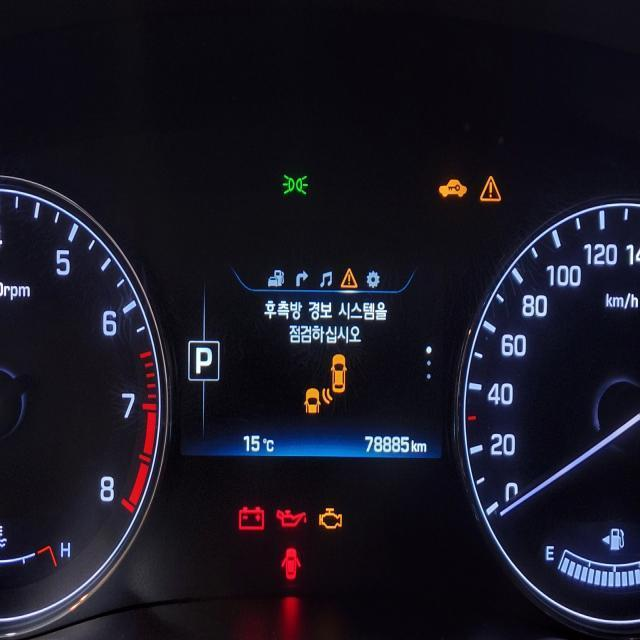Central Warning lamp: (478, 174, 501, 202), (338, 266, 358, 288)
Doors: (280, 546, 300, 580)
SideLamp: (280, 172, 308, 196)
